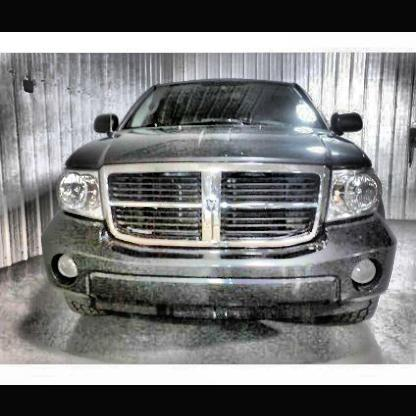Dodge Durango SUV 2007: (42, 79, 398, 325)
